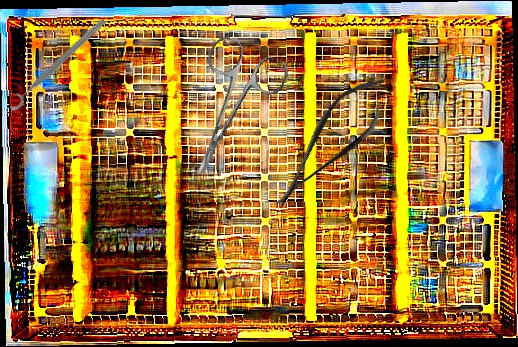Fixation Ring: (0, 10, 109, 114)
Iris Scissors: (160, 32, 293, 191)
Micro Scissor: (255, 62, 405, 222)
